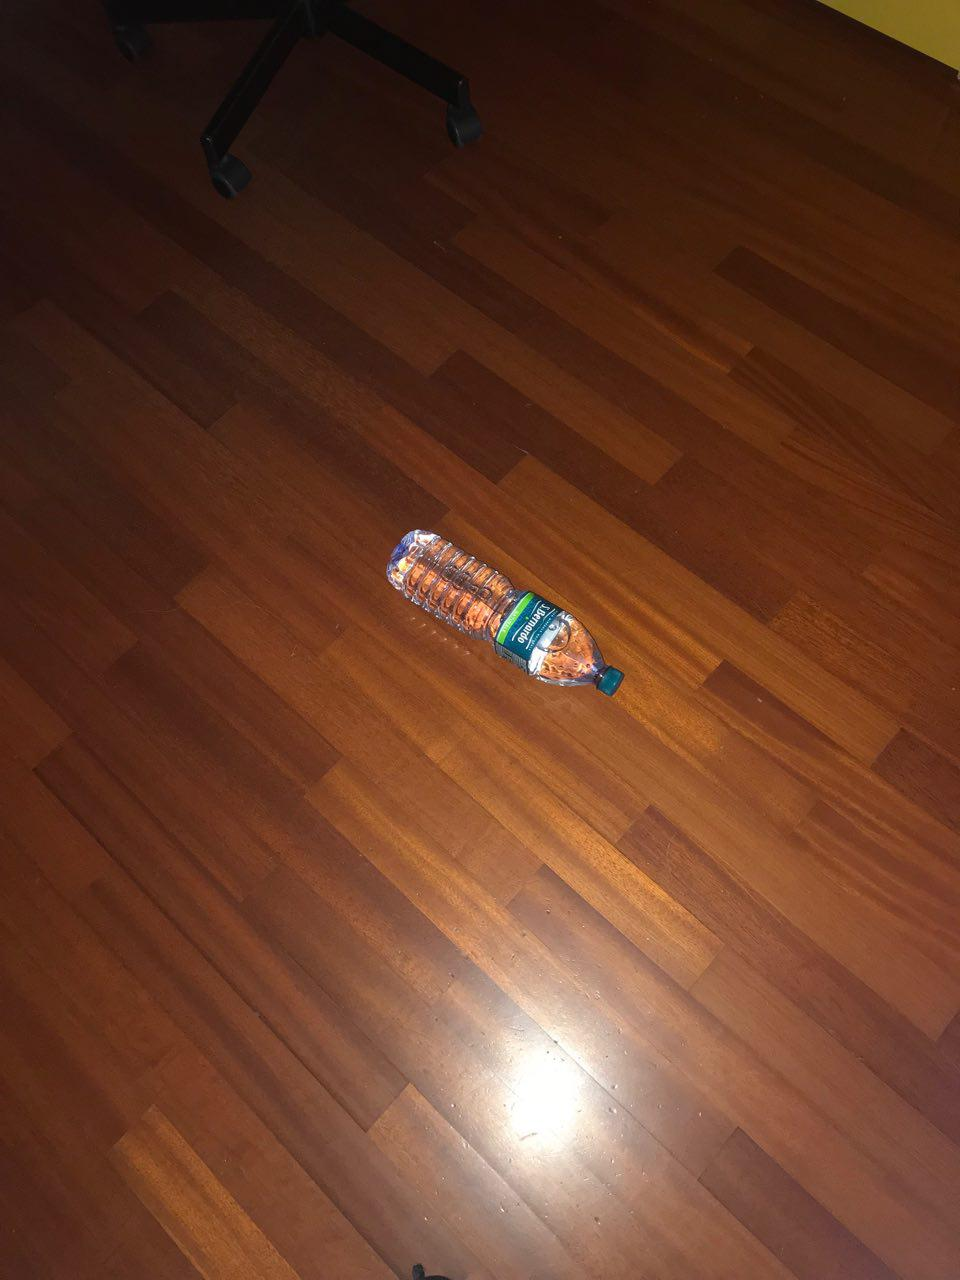san_bernardo: (385, 530, 626, 698)
